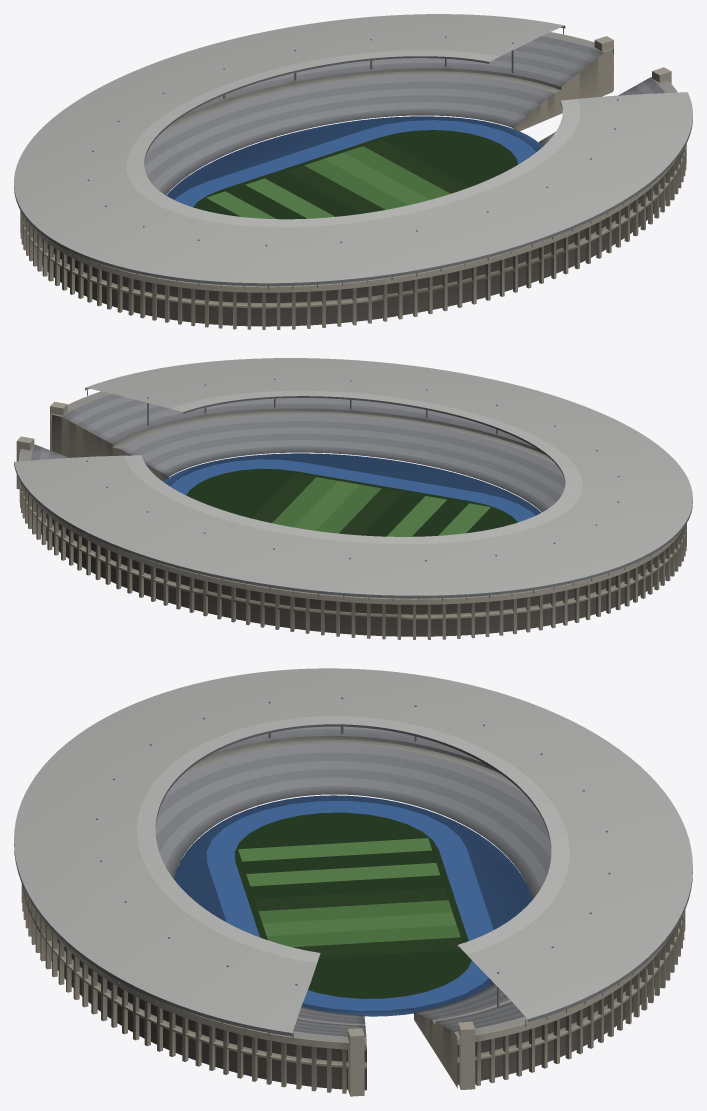
The model's file is olympiastadion.glb.
3 renders of one model, top to bottom at view 1: azimuth 30°, elevation 25°; view 2: azimuth 150°, elevation 25°; view 3: azimuth 270°, elevation 25°, orthographic. The views are drawn at different scales.
Visible parts, largest first — view 1: lack, glas; view 2: lack, glas; view 3: lack, glas.
Part boxes in pixels (x1,y1,x2,y2): lack: (14, 14, 692, 329); glas: (126, 50, 580, 227); lack: (14, 358, 692, 639); glas: (124, 390, 582, 544); lack: (14, 668, 692, 1096); glas: (137, 716, 569, 963).
Bounding box in the file's own units: 310 × 28.1 × 241.
